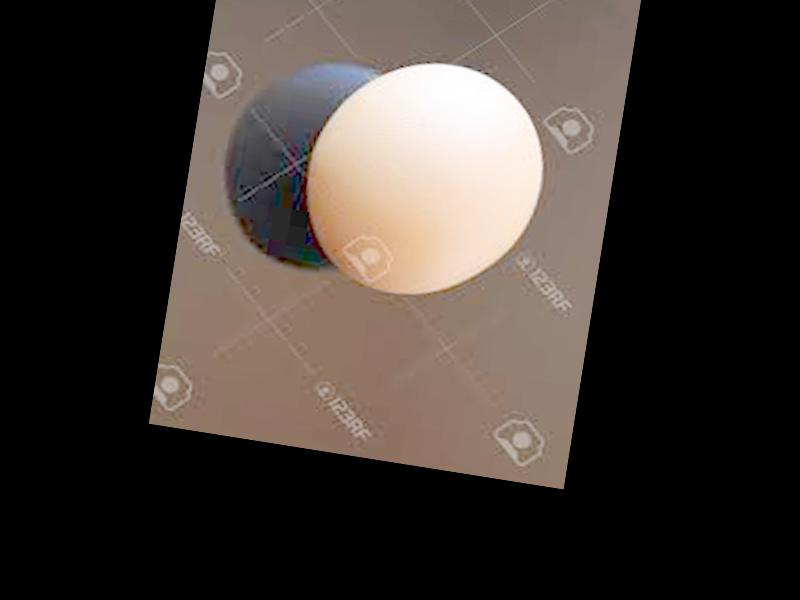Eggs: (290, 44, 558, 311)
